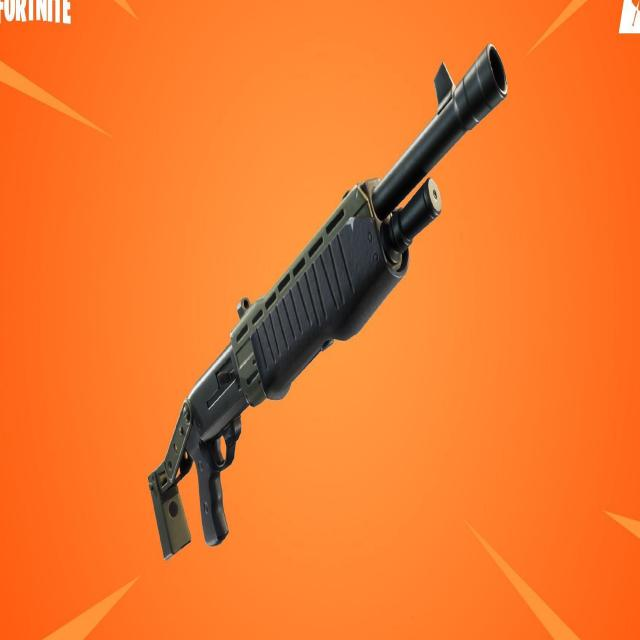Weapon: (149, 45, 507, 557)
